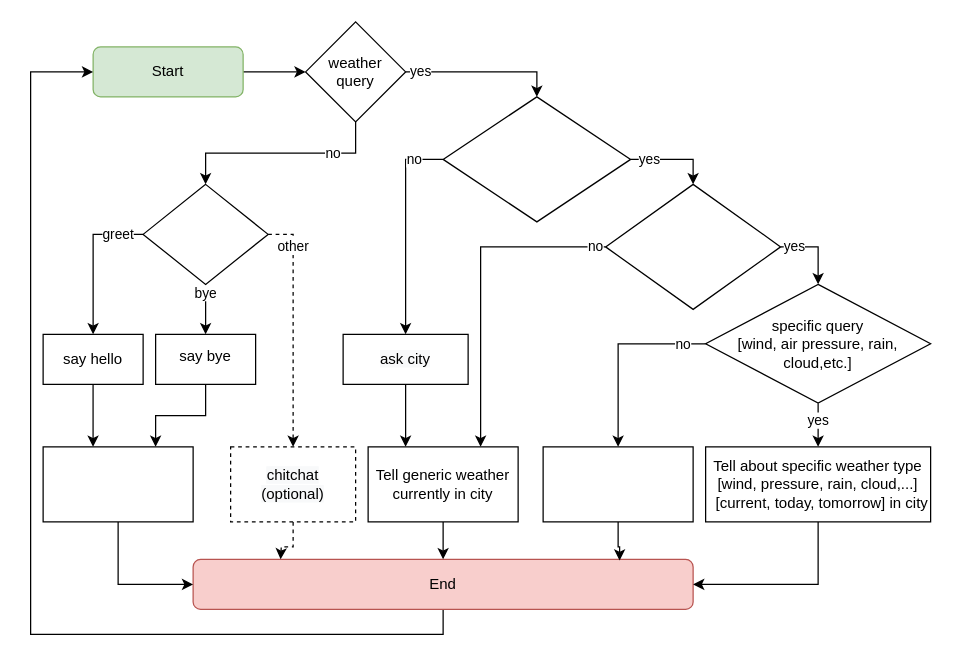
The diagram is 953 pixels wide and 666 high, and some of its shapes have lost their labels. Each missing label, with the centre of its shape:
"forecasting [current, today, tomorrow] known" goes at point 692,246.
"query contains city [auckland, wellington]" goes at point 536,159.
"reset values: city, time, weather type" goes at point 117,484.
"Tell generic weather [current, today, tomorrow] in city" goes at point 617,484.
"user input" goes at point 205,233.
